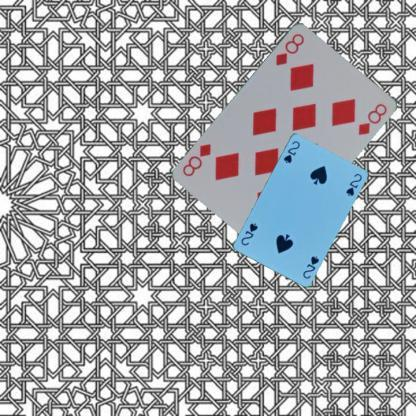2s: (300, 253, 320, 280), (281, 138, 301, 164)
8d: (272, 30, 306, 66)
